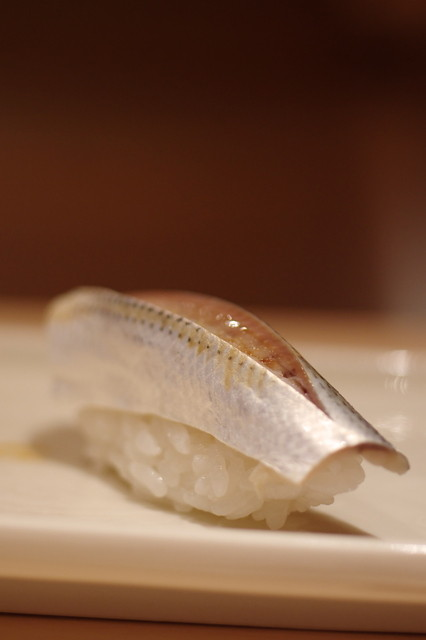spotted-shad: (43, 279, 412, 535)
